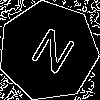N: (23, 26, 78, 84)
